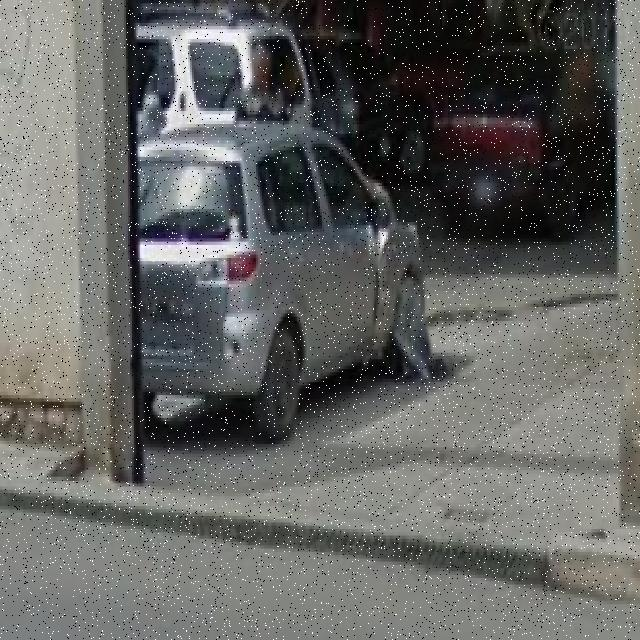cars: (134, 121, 429, 436)
